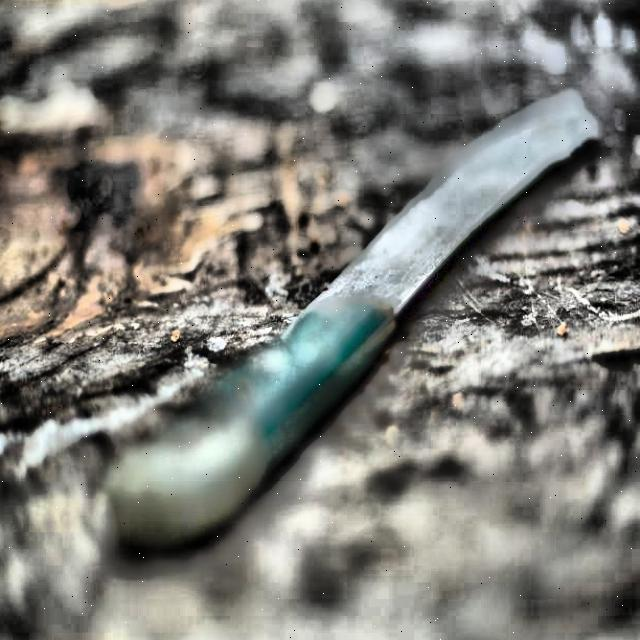knife: (106, 81, 604, 550)
